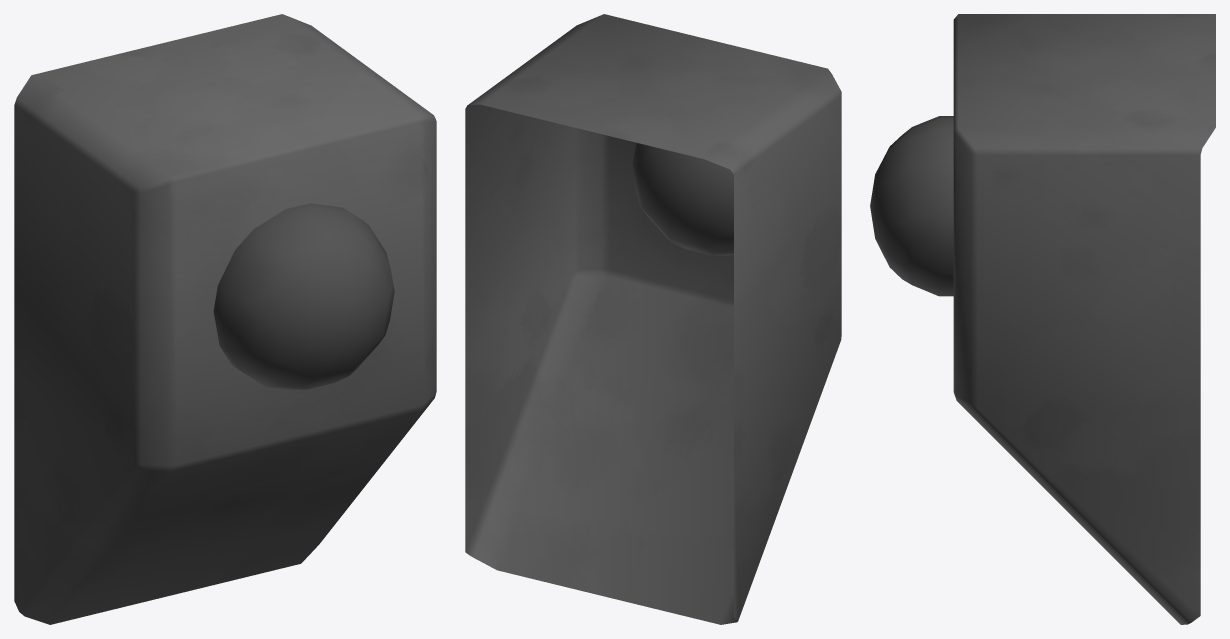
File: tyrolka.fbx
3 views of the same model, side by side, from view 1: azimuth 30°, elevation 25°; view 2: azimuth 150°, elevation 25°; view 3: azimuth 270°, elevation 25° (orthographic). The views are drawn at different scales.
Parts seen in each view (by area): view 1: tyrolka; view 2: tyrolka; view 3: tyrolka.
Boxes of the visible parts, x1,y1,x2,y2 form: tyrolka: (14,14,436,624); tyrolka: (465,14,841,624); tyrolka: (870,14,1215,624).
Size of the model in its own units: 23.59 by 40.09 by 25.26.
Materials: 1 (1 with a texture image).
